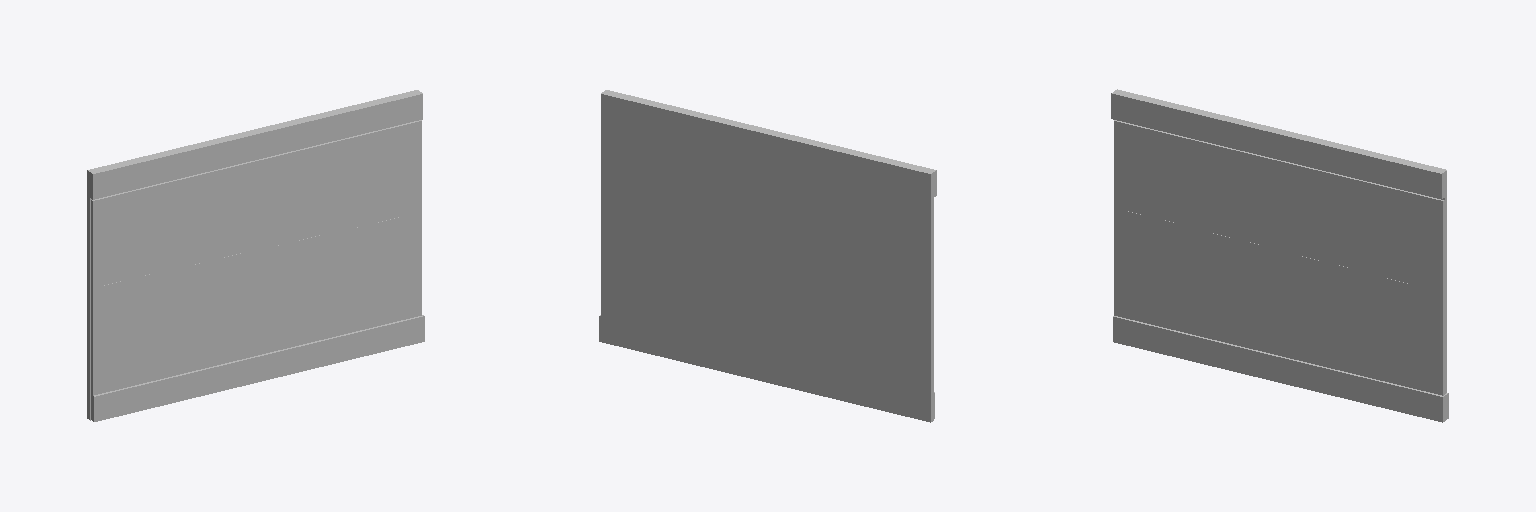
File: roadtile.obj
3 views of the same model, side by side, from view 1: azimuth 30°, elevation 25°; view 2: azimuth 150°, elevation 25°; view 3: azimuth 330°, elevation 25° (orthographic).
Parts seen in each view (by area): view 1: obj_0; view 2: obj_0; view 3: obj_0.
Boxes of the visible parts, x1=… form: obj_0: x1=87, y1=90, x2=424, y2=421; obj_0: x1=599, y1=90, x2=936, y2=422; obj_0: x1=1111, y1=89, x2=1448, y2=422.
Size of the model in its own units: 136 by 97 by 4.